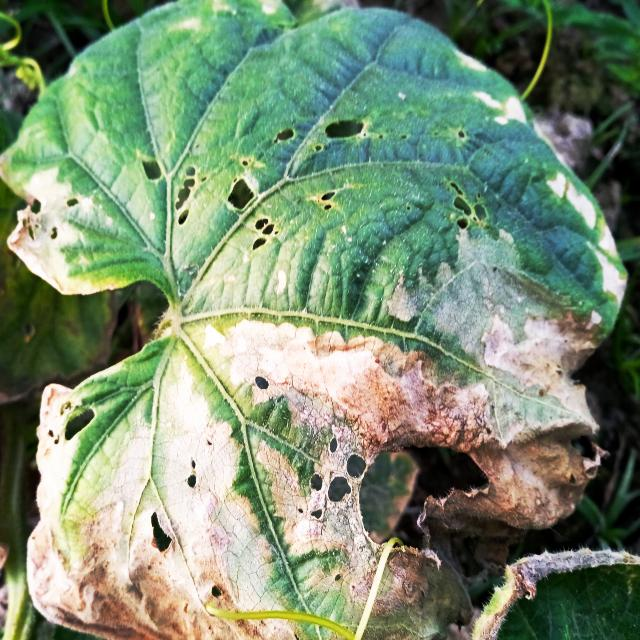Anthracnose: (305, 429, 495, 569), (138, 143, 201, 228), (225, 156, 278, 251), (272, 114, 366, 153), (445, 173, 489, 236), (59, 400, 100, 441), (148, 501, 176, 560), (246, 363, 276, 392)
